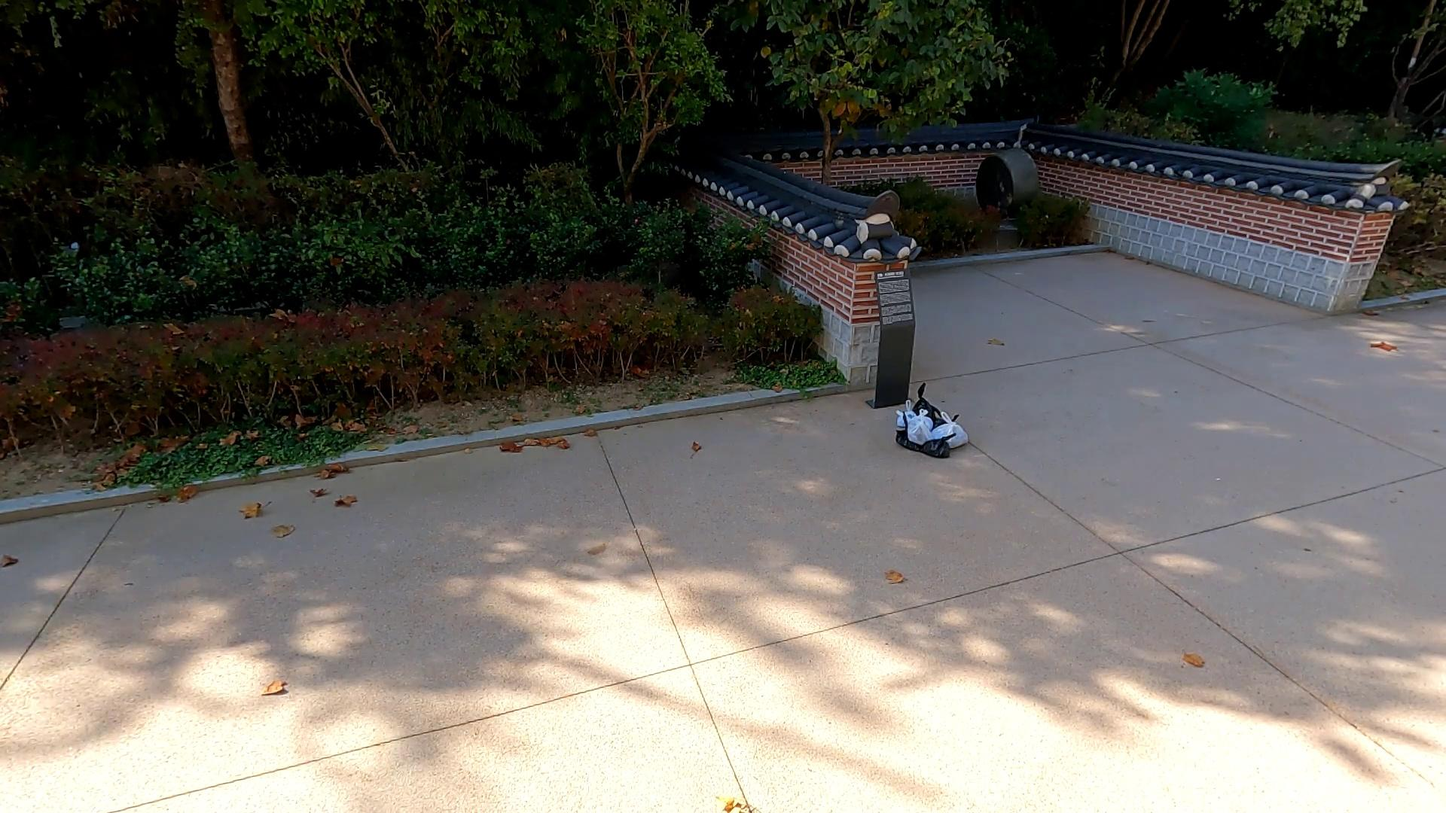trash: (911, 382, 941, 430), (932, 415, 971, 448), (895, 415, 927, 453), (921, 432, 959, 459), (906, 408, 933, 445), (895, 399, 918, 428)
